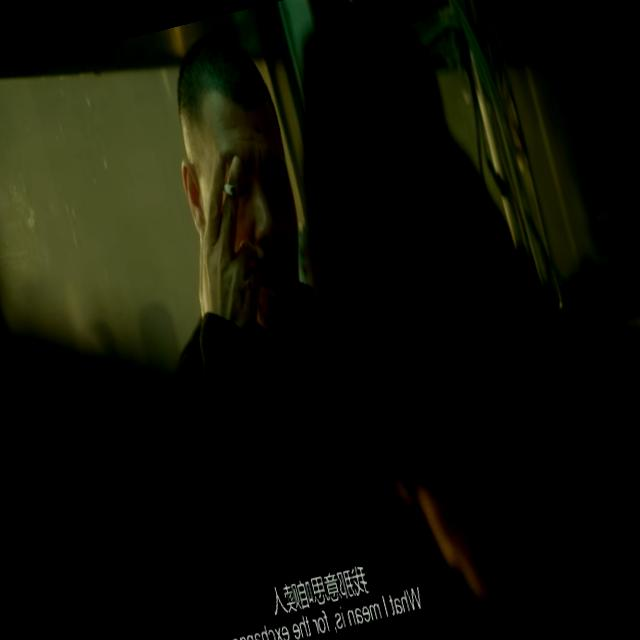smoke: (219, 175, 238, 202)
